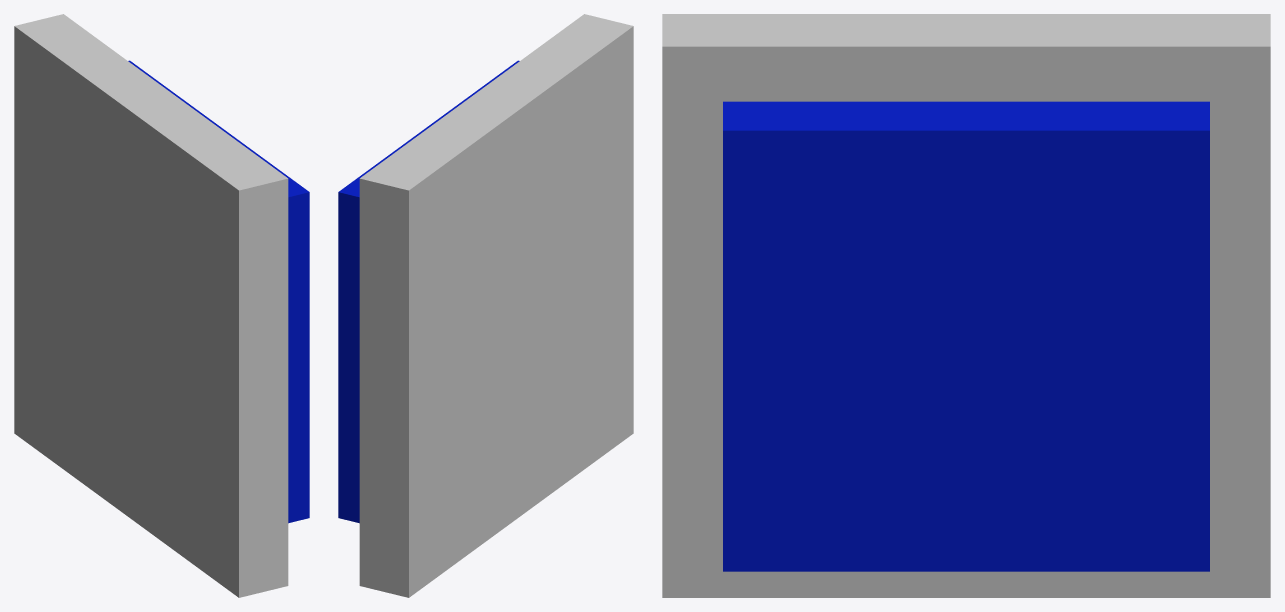
The model's file is sign.fbx.
3 views of the same model, side by side, from view 1: azimuth 30°, elevation 25°; view 2: azimuth 150°, elevation 25°; view 3: azimuth 270°, elevation 25° (orthographic). The views are drawn at different scales.
Parts seen in each view (by area): view 1: Cube; view 2: Cube; view 3: Cube.
Part boxes in pixels (<box>): Cube: <box>14,14,309,597</box>; Cube: <box>338,14,633,597</box>; Cube: <box>662,14,1270,597</box>.
Bounding box in the file's own units: 47.85 × 200 × 200.
